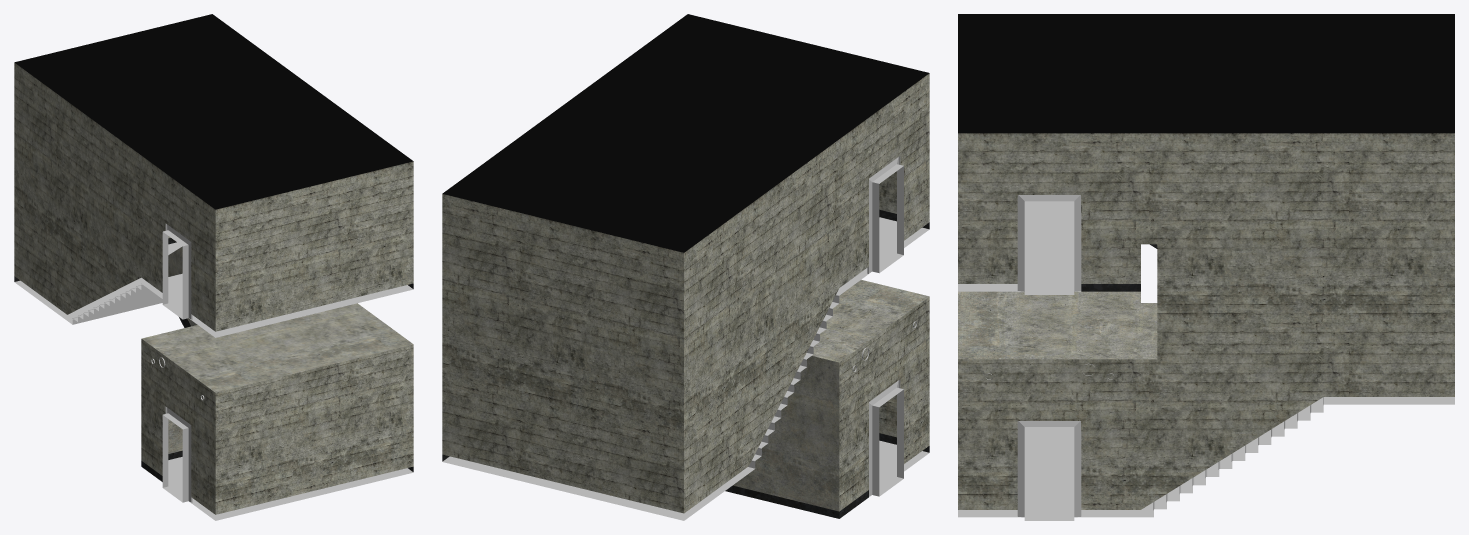
Rendered from StairwayUp_2x3.FBX.
The picture shows the model from 3 angles, left to right: view 1: azimuth 30°, elevation 25°; view 2: azimuth 150°, elevation 25°; view 3: azimuth 270°, elevation 25°; orthographic projection. The views are drawn at different scales.
Visible parts, largest first — view 1: StairwayUp_2x3; view 2: StairwayUp_2x3; view 3: StairwayUp_2x3.
Part boxes in pixels (box(x1,y1,x2,y2)): StairwayUp_2x3: box(14, 14, 413, 520); StairwayUp_2x3: box(442, 14, 929, 520); StairwayUp_2x3: box(958, 14, 1454, 520).
Size of what is drawn, in the model's own units: 709 by 1011 by 1177.
